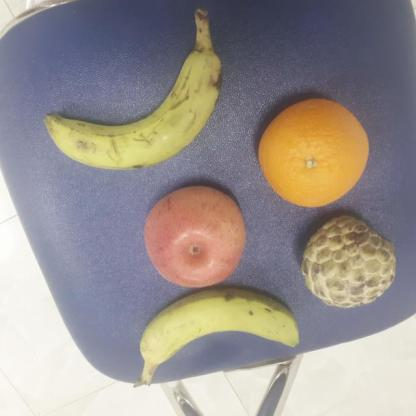annona: (300, 214, 396, 310)
apple: (144, 186, 245, 288)
banana: (43, 9, 225, 172), (131, 290, 299, 388)
orange: (257, 101, 370, 208)
